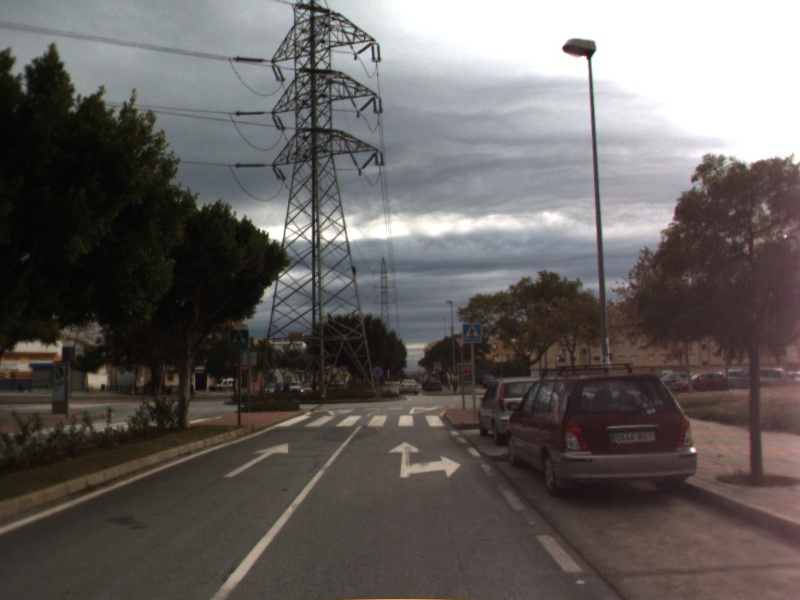STRAIGHT: (221, 441, 290, 479)
STRAIGHT_RIGHT: (386, 439, 463, 480)
